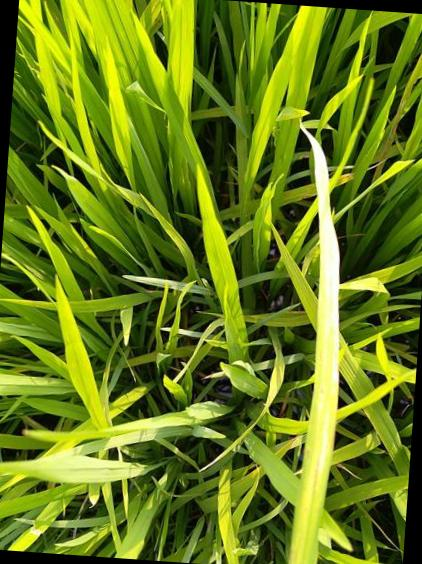Leaf Blight: (304, 124, 343, 464)
